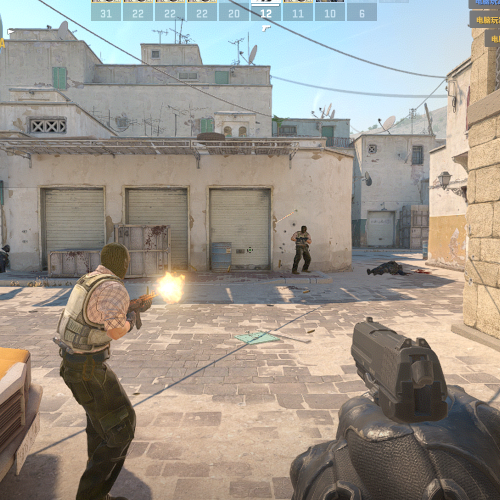t_body: (57, 244, 136, 499), (290, 224, 313, 276)
t_head: (100, 243, 129, 280), (301, 225, 307, 234)
